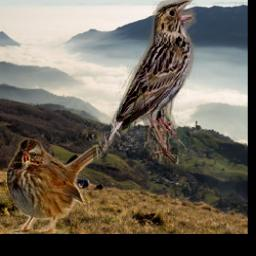Sparrow: (94, 0, 198, 164), (8, 138, 108, 234)
